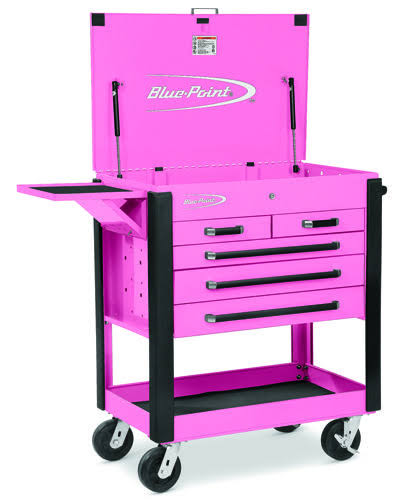Carts: (12, 167, 385, 496)
